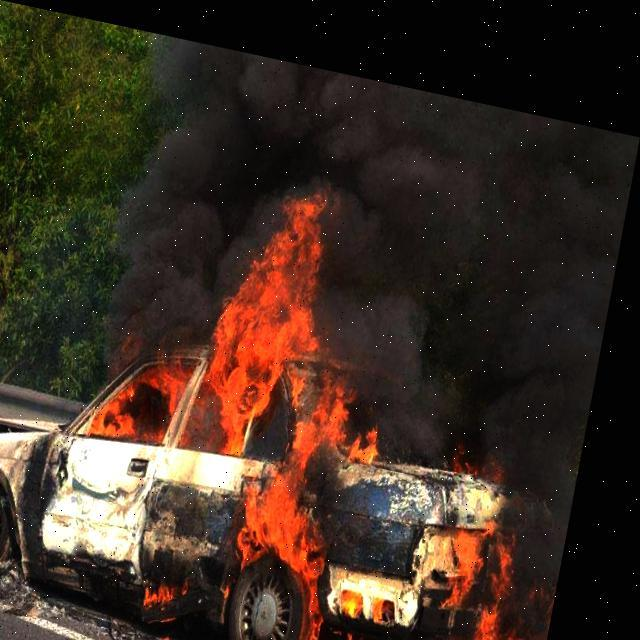Fire: (50, 129, 621, 639)
